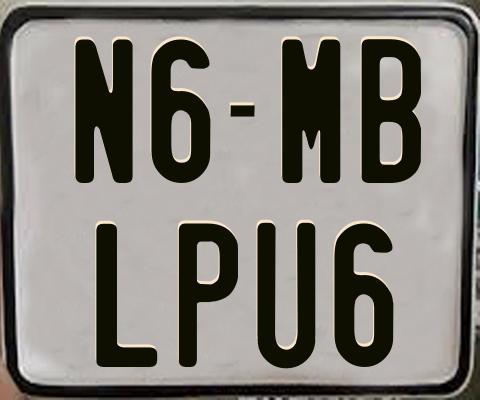6: (333, 222, 398, 366), (148, 39, 211, 183)
B: (362, 39, 425, 189)
L: (96, 221, 157, 370)
M: (280, 37, 342, 184)
N: (73, 37, 132, 183)
P: (177, 223, 241, 367)
U: (256, 222, 320, 371)
